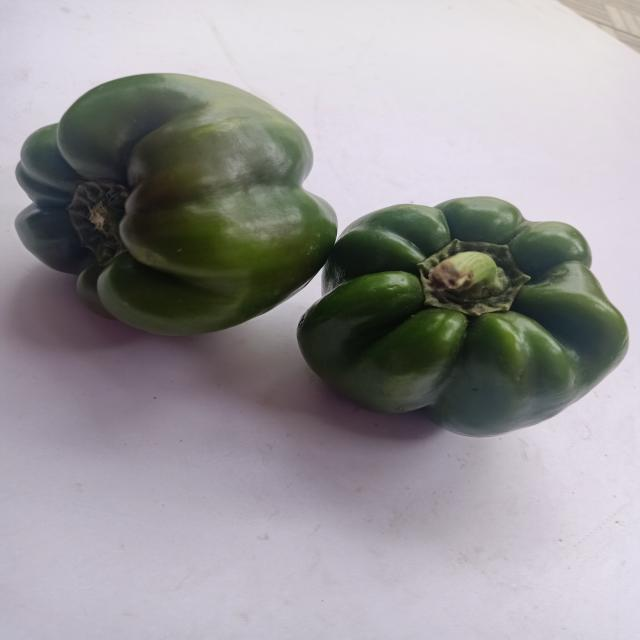Capsicum: (8, 55, 343, 344), (286, 188, 637, 448)
